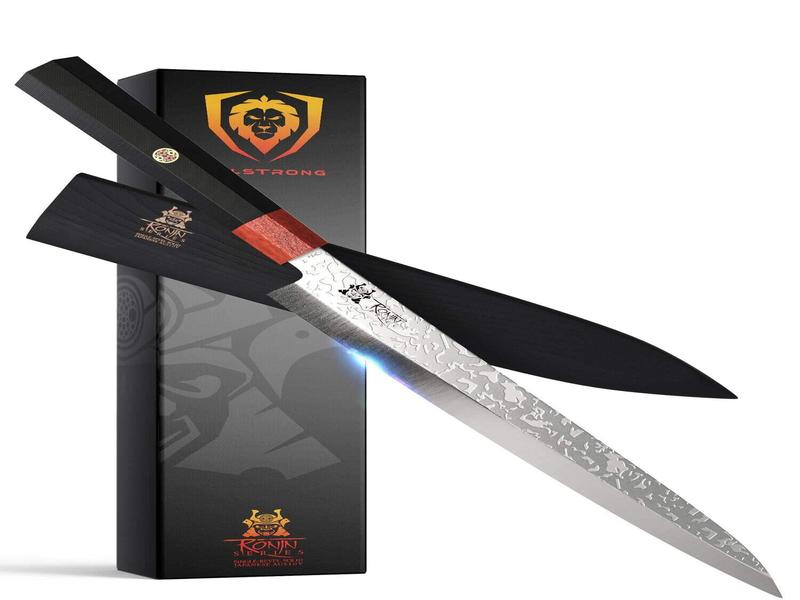KNIFE: (12, 50, 800, 599)
